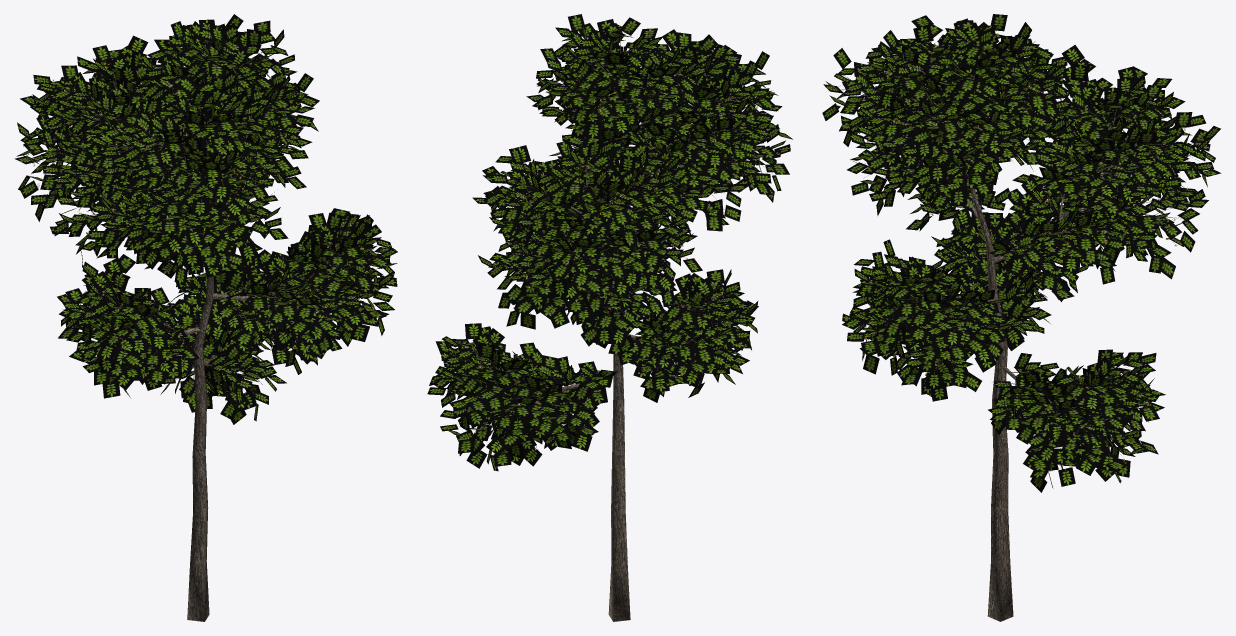
The model's file is tree.fbx.
3 views of the same model, side by side, from view 1: azimuth 30°, elevation 25°; view 2: azimuth 150°, elevation 25°; view 3: azimuth 270°, elevation 25° (orthographic).
Parts seen in each view (by area): view 1: leaves, tree; view 2: leaves, tree; view 3: leaves, tree.
Boxes of the visible parts, <box> form: leaves: <box>14,14,397,424</box>; tree: <box>33,38,378,621</box>; leaves: <box>427,14,792,471</box>; tree: <box>454,32,772,621</box>; leaves: <box>822,14,1221,492</box>; tree: <box>841,31,1200,621</box>.
Size of the model in its own units: 1177 by 2318 by 1415.
Materials: 6 (6 with a texture image).
